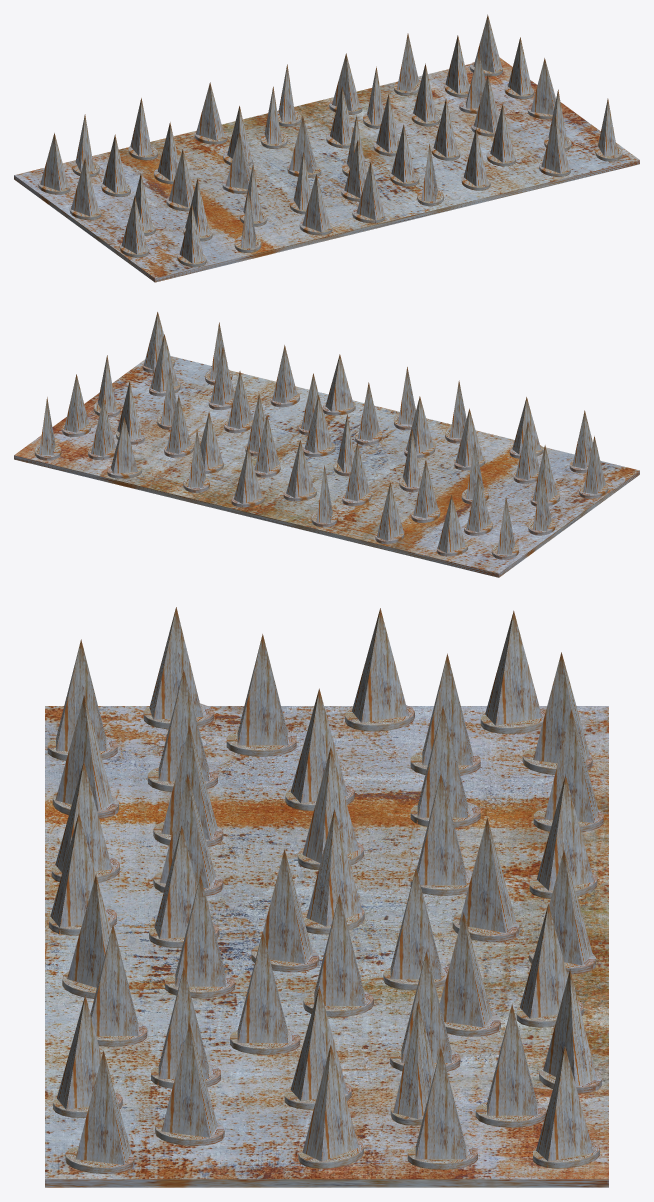
File: 2 x 2 spikes Textured.fbx
The picture shows the model from 3 angles, top to bottom: view 1: azimuth 30°, elevation 25°; view 2: azimuth 150°, elevation 25°; view 3: azimuth 270°, elevation 25°; orthographic projection. The views are drawn at different scales.
Visible parts, largest first — view 1: Box001; view 2: Box001; view 3: Box001.
Part boxes in pixels (<box>): Box001: <box>14,14,639,282</box>; Box001: <box>14,312,639,577</box>; Box001: <box>45,607,608,1187</box>.
Size of the model in its own units: 199 by 23.65 by 100.
1 material, 1 textured.
